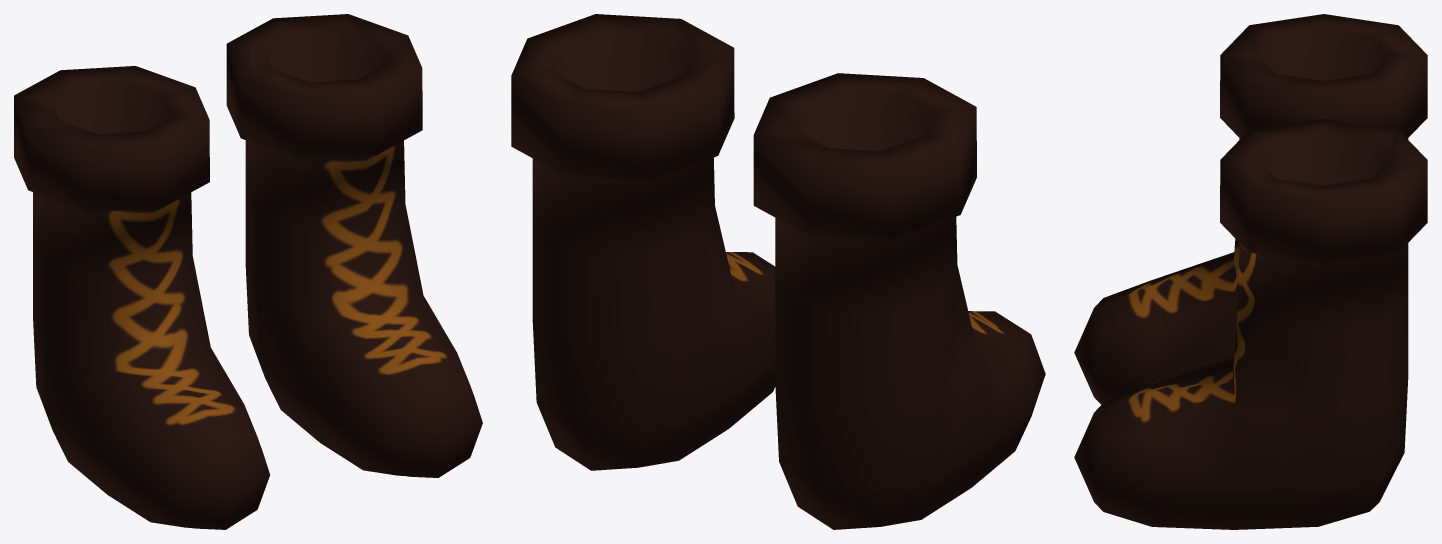
File: SM_Boots.fbx
The picture shows the model from 3 angles, left to right: view 1: azimuth 30°, elevation 25°; view 2: azimuth 150°, elevation 25°; view 3: azimuth 270°, elevation 25°; orthographic projection. The views are drawn at different scales.
Parts seen in each view (by area): view 1: Cube.006; view 2: Cube.006; view 3: Cube.006.
Part boxes in pixels (left/top/right/bottom): Cube.006: left=14, top=14, right=482, bottom=529; Cube.006: left=511, top=14, right=1045, bottom=529; Cube.006: left=1074, top=14, right=1427, bottom=529.
Size of the model in its own units: 1.69 by 1.54 by 1.35.
